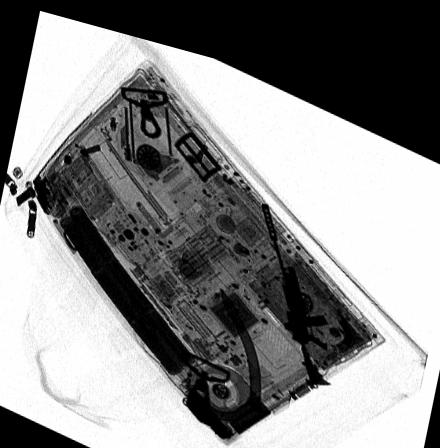Gun: (258, 188, 332, 367)
